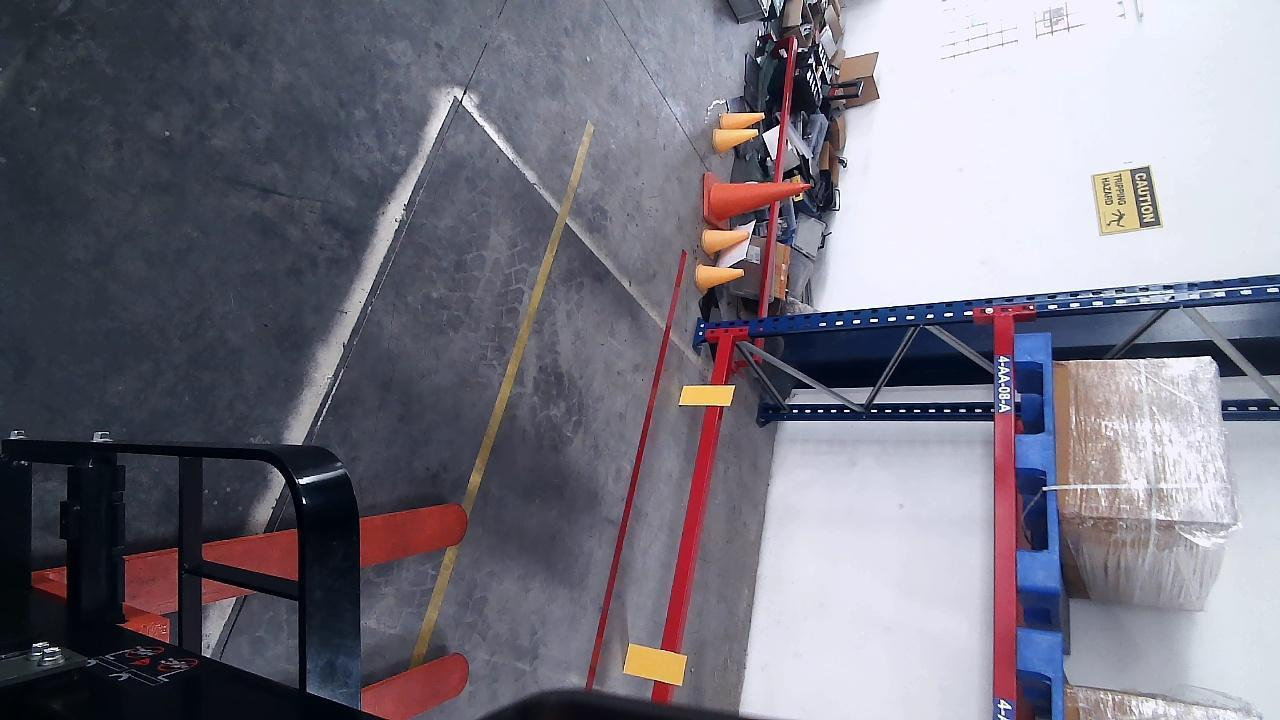red_line: (584, 242, 692, 690)
yellow_line: (406, 118, 597, 670)
